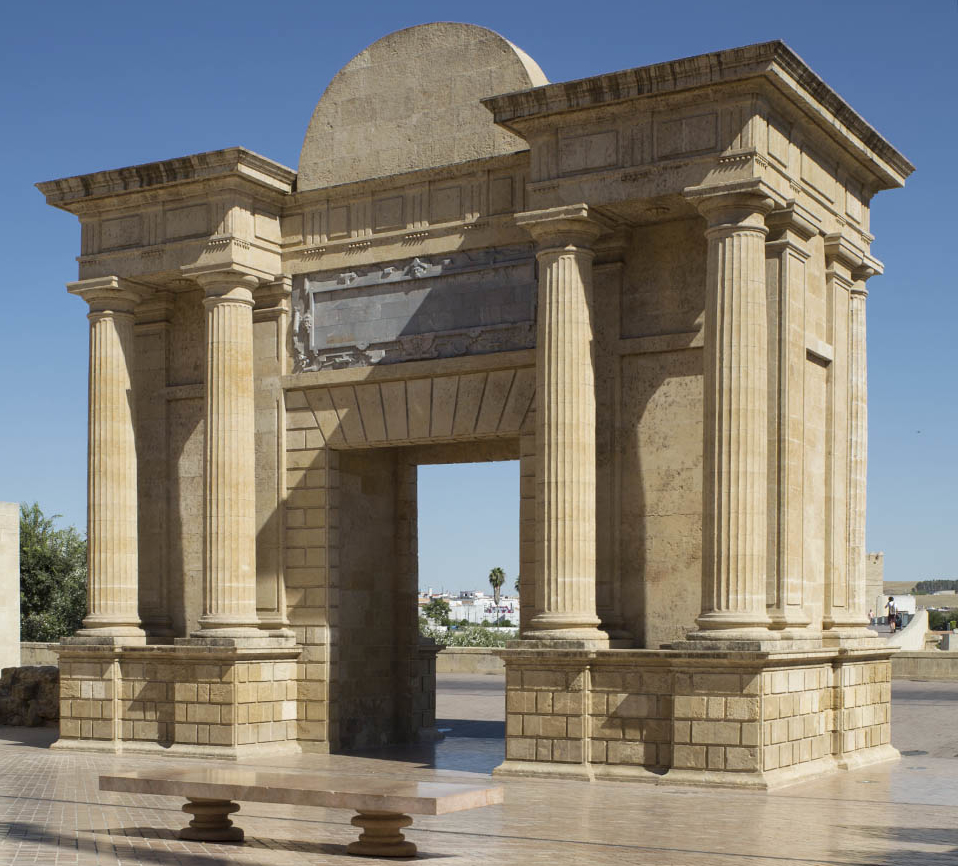vano-adintelado: (291, 412, 533, 746)
